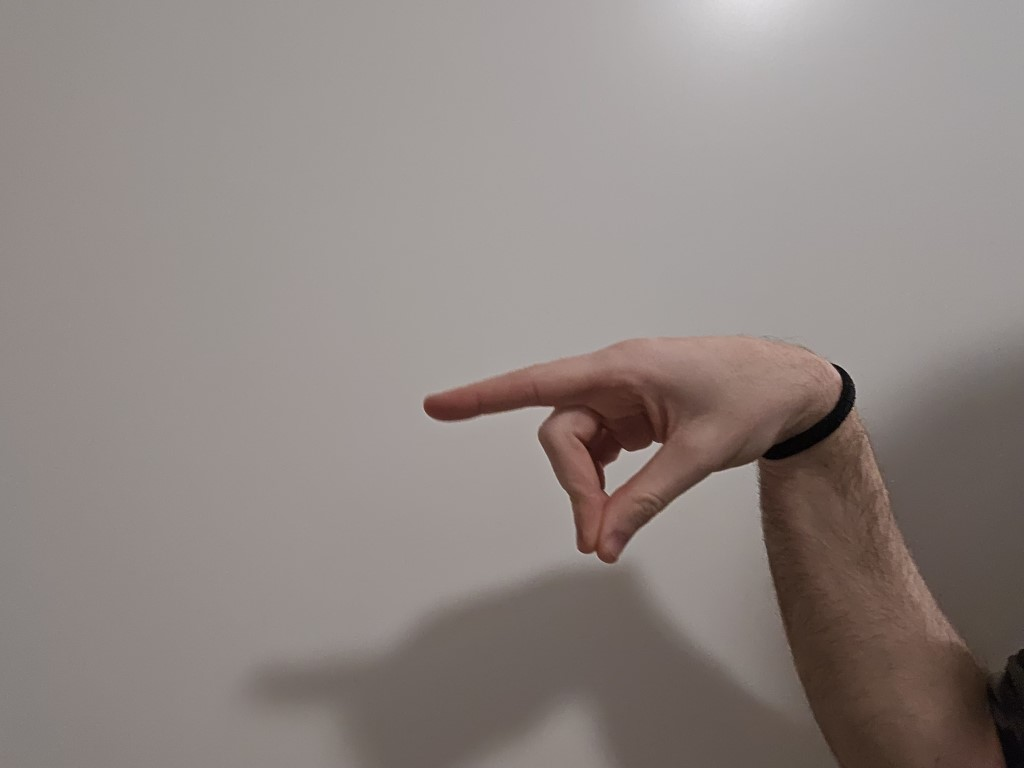p: (363, 331, 790, 571)
